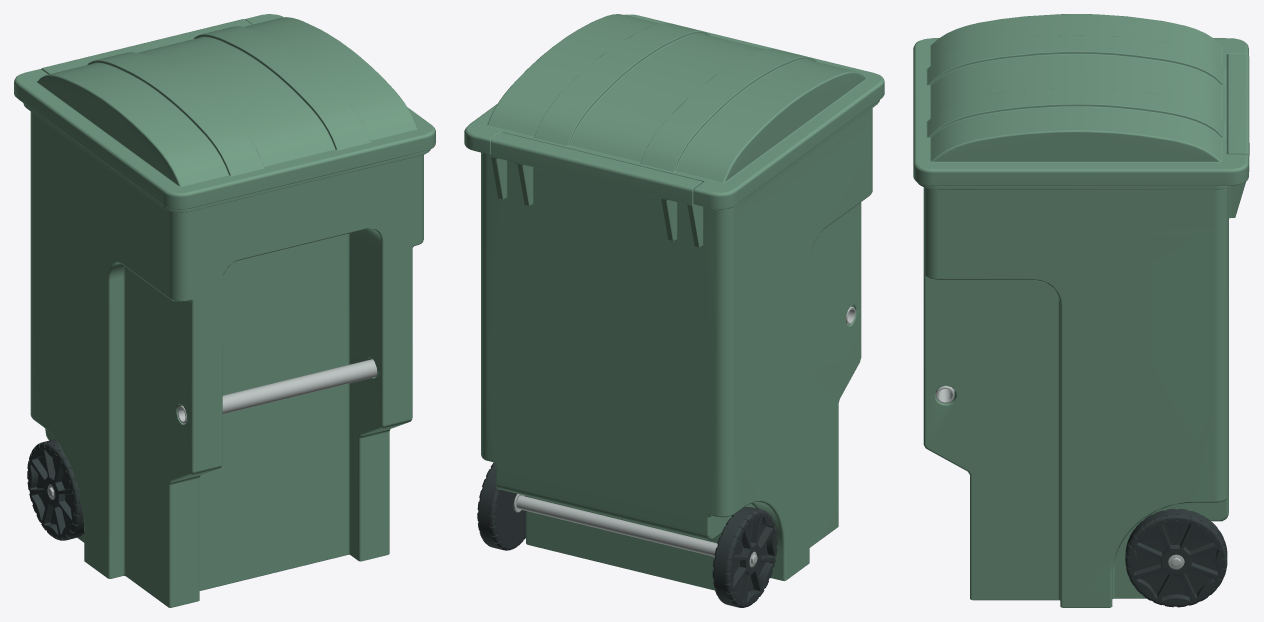
File: waste_recycling_container_a01.glb
3 views of the same model, side by side, from view 1: azimuth 30°, elevation 25°; view 2: azimuth 150°, elevation 25°; view 3: azimuth 270°, elevation 25° (orthographic).
Size of the model in its own units: 0.4954 by 0.8272 by 0.5287.
